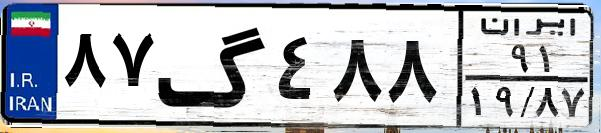1: (537, 27, 568, 80), (470, 70, 495, 125)
4: (270, 28, 330, 110)
7: (110, 28, 156, 98), (560, 70, 590, 125)
8: (385, 28, 445, 110), (330, 28, 385, 110), (57, 26, 110, 100), (535, 70, 560, 125)
9: (508, 27, 537, 80), (495, 70, 520, 125)
گ: (156, 12, 270, 120)
